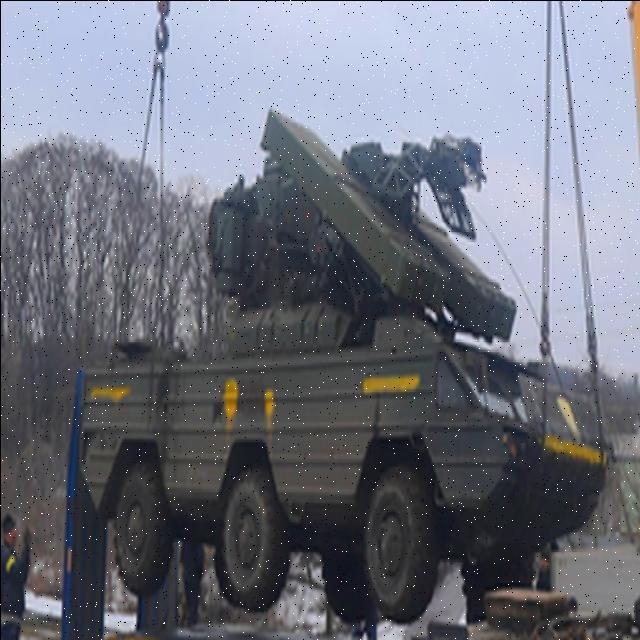MLRS: (75, 94, 613, 616)
